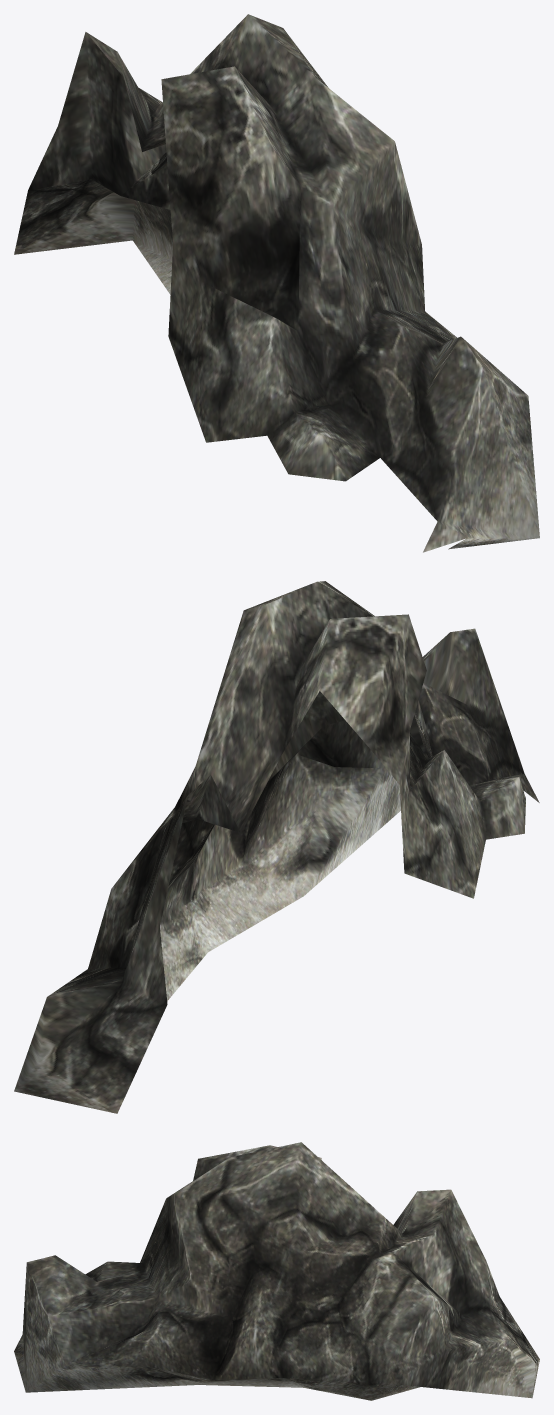
Rendered from Rock_port.FBX.
3 views of the same model, one above another, from view 1: azimuth 30°, elevation 25°; view 2: azimuth 150°, elevation 25°; view 3: azimuth 270°, elevation 25° (orthographic). The views are drawn at different scales.
Parts seen in each view (by area): view 1: _rock_port; view 2: _rock_port; view 3: _rock_port.
Part boxes in pixels (x1,y1,x2,y2): _rock_port: [14, 14, 539, 552]; _rock_port: [14, 581, 539, 1113]; _rock_port: [14, 1142, 539, 1400].
Bounding box in the file's own units: 3.68 × 6.19 × 12.21.
1 material, 1 textured.
